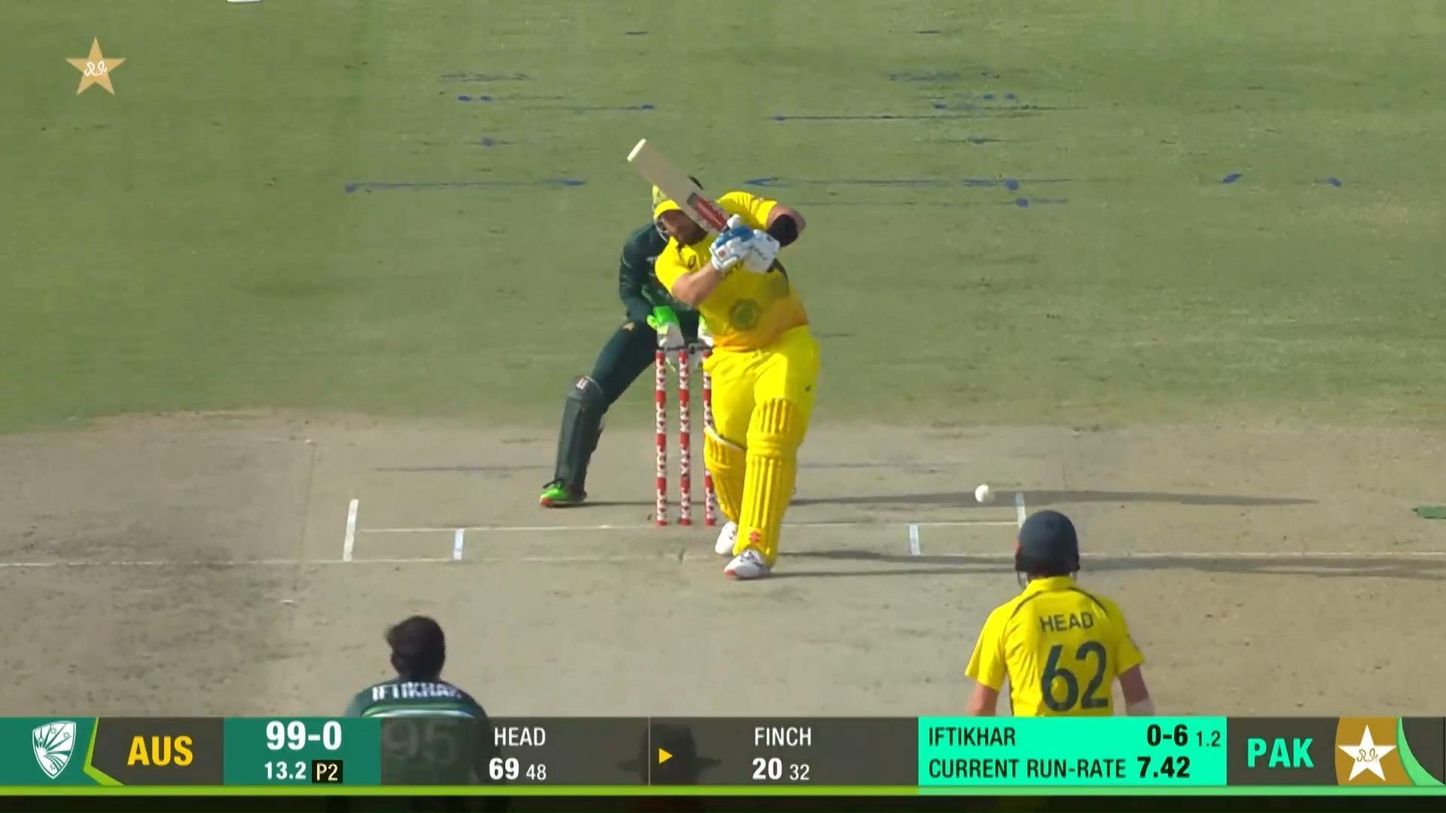BM 1: (627, 139, 820, 580)
BO: (333, 613, 516, 813)
